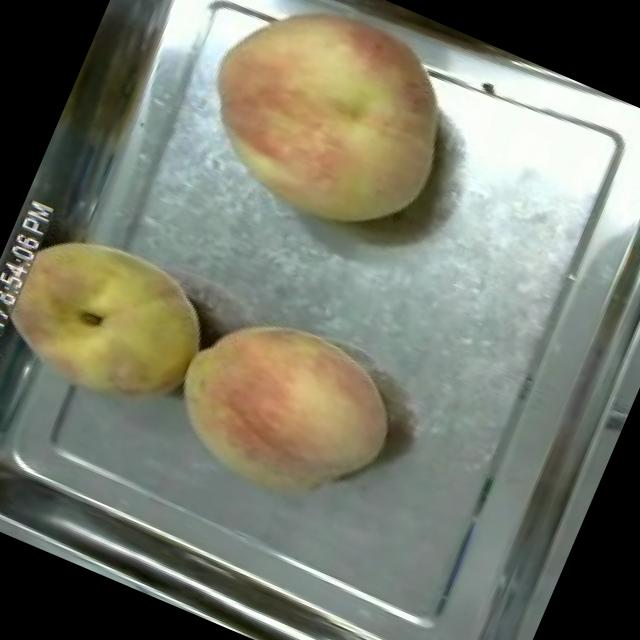Fruit: (165, 0, 488, 263), (144, 282, 420, 537), (0, 200, 231, 439)
